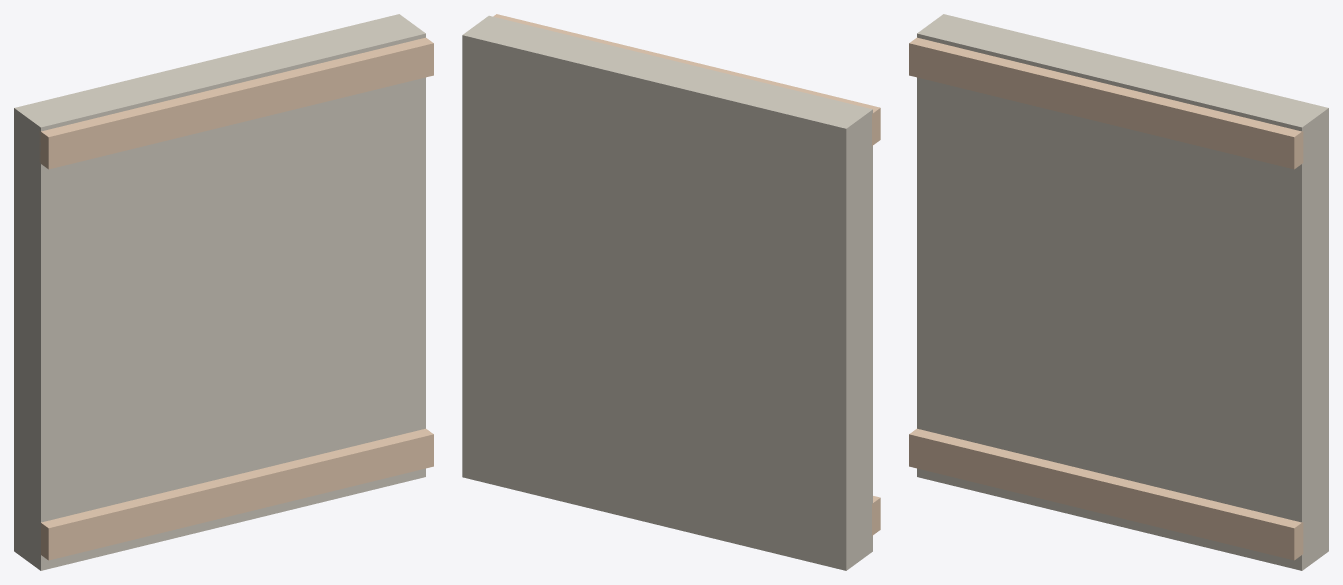
File: wall-wood-solid.glb
The picture shows the model from 3 angles, left to right: view 1: azimuth 30°, elevation 25°; view 2: azimuth 150°, elevation 25°; view 3: azimuth 330°, elevation 25°; orthographic projection.
Visible parts, largest first — view 1: panel, top_trim, trim; view 2: panel, top_trim; view 3: panel, top_trim, trim.
Boxes of the visible parts, x1,y1,x2,y2 form: panel: (14, 14, 425, 570); top_trim: (39, 37, 433, 169); trim: (41, 428, 433, 560); panel: (462, 15, 872, 570); top_trim: (493, 14, 880, 145); panel: (917, 14, 1328, 570); top_trim: (909, 37, 1303, 169); trim: (909, 428, 1303, 560).
Bounding box in the file's own units: 1 × 1.1 × 0.155.
